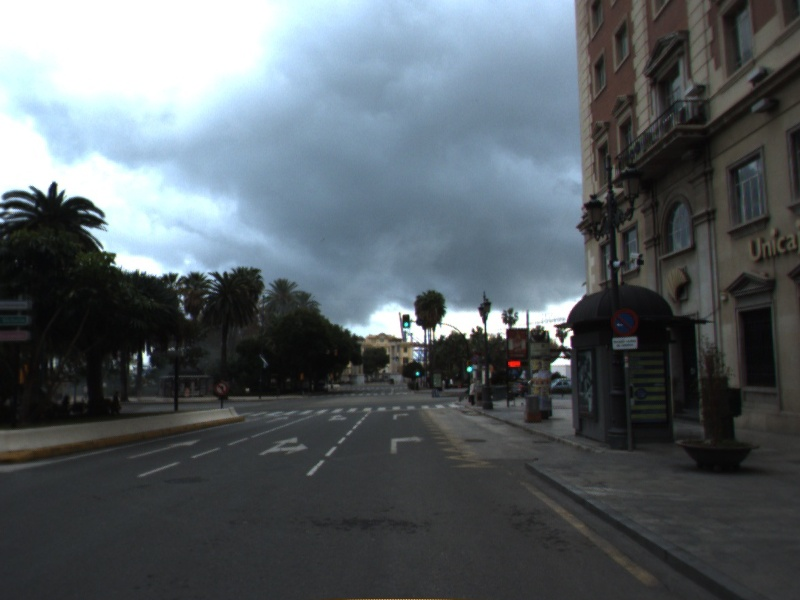RIGHT: (387, 433, 427, 456), (390, 411, 411, 422)
STRAIGHT: (124, 436, 204, 462), (263, 415, 290, 425)
STRAIGHT_RIGHT: (256, 435, 311, 458), (326, 412, 349, 423)
